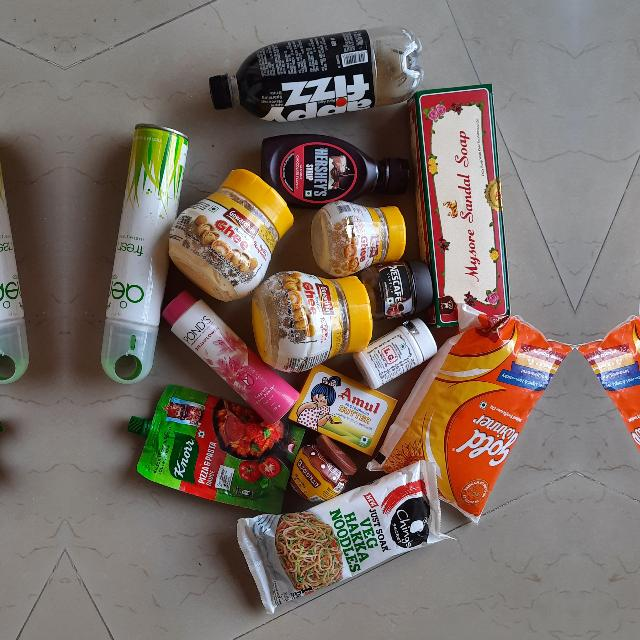Amul Butter: (290, 364, 390, 454)
Badshah Afgani Hing: (292, 434, 358, 508)
Chings Secret Veg Hakka Noodles 140 g Pouch: (222, 468, 448, 604)
Godrej Aer Lush Green Fresh Home Fragrance Spray 220 ml: (96, 116, 182, 380), (0, 116, 32, 380)
Gold Oil: (390, 316, 568, 522), (580, 316, 640, 521)
Govardhan Pure cow Ghee -1kg-: (180, 165, 292, 292), (260, 272, 374, 364)
Govardhan Pure cow Ghee -200ml-: (310, 205, 408, 268)
HERSHEY-S Chocolate Flavored Syrup 200g: (262, 134, 418, 202)
Knorr Pizza Pasta Sauce: (127, 384, 295, 512)
LG Compounded Hing Powder 50 g: (354, 324, 436, 382)
Mysore Sandal Soap 150 g -Pack of 3-: (410, 85, 516, 333)
Nescafe Classic Instant Coffee 24 g: (367, 264, 433, 316)
Pond-s Dreamflower Pink Lily Fragrant Talc 400 g: (161, 286, 297, 419)
appy fizz apple juice -250 ml-: (209, 28, 429, 120)
